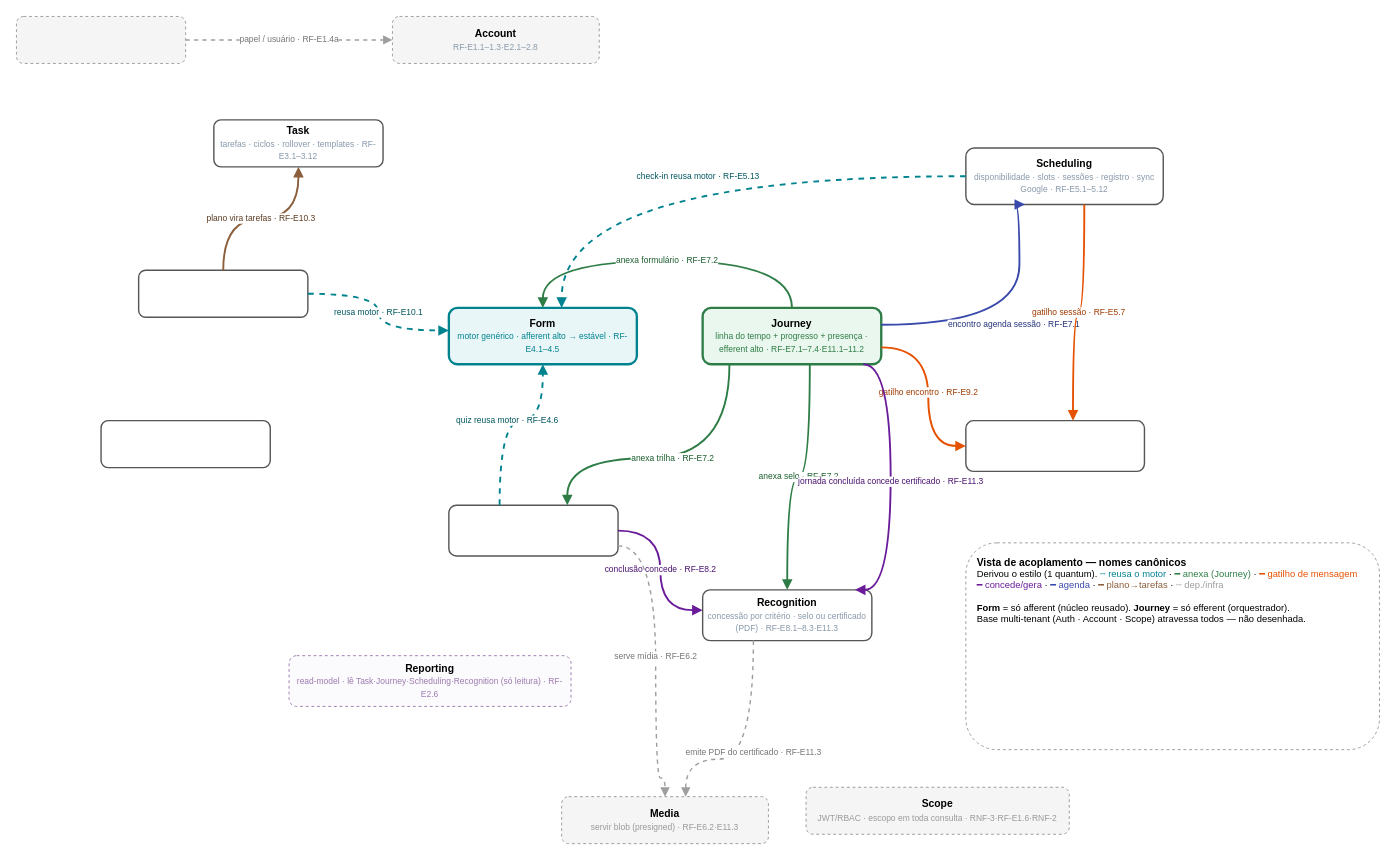
The diagram is 1396 pixels wide and 860 high, and some of its shapes have lost their labels. The shapes that lost their labels are listed below. From the top down, each one's centre as x and y in pixels, then its label:
At [101,39]: "Auth RF-E1.4·1.8–1.11".
At [223,293]: "Diagnostic RF-E10.1–10.3".
At [185,444]: "Document pastas · remetente · RF-E12.1–12.5".
At [1055,446]: "Messaging modelos · disparos WhatsApp · RF-E9.1–9.3".
At [533,530]: "Track itens · quiz (gabarito/pontuação) · progresso · RF-E6.1–6.4·E4.6".
